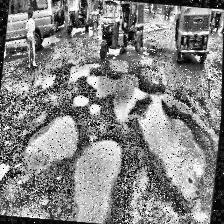pothole: (131, 88, 214, 202), (68, 132, 126, 224), (22, 108, 82, 178), (82, 70, 148, 124), (68, 58, 102, 86), (106, 56, 132, 75), (104, 56, 130, 74), (210, 118, 222, 152), (73, 92, 91, 108), (0, 162, 10, 182), (89, 101, 103, 115)
